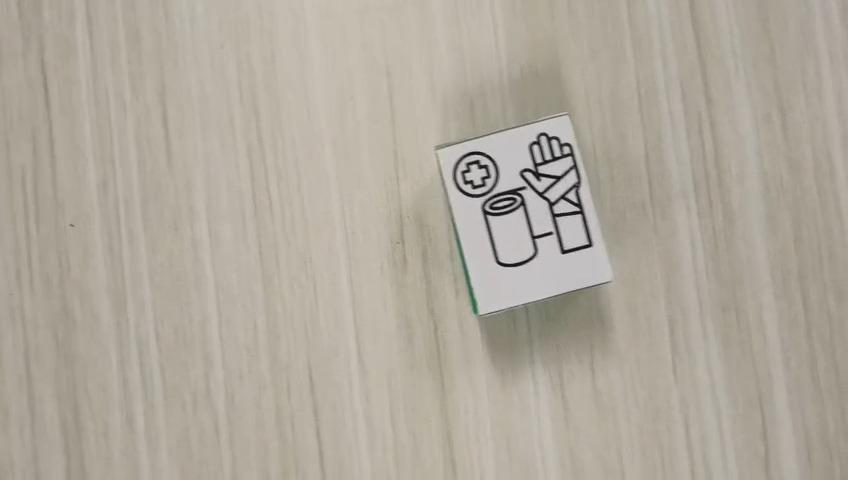Bandages: (433, 111, 613, 316)
